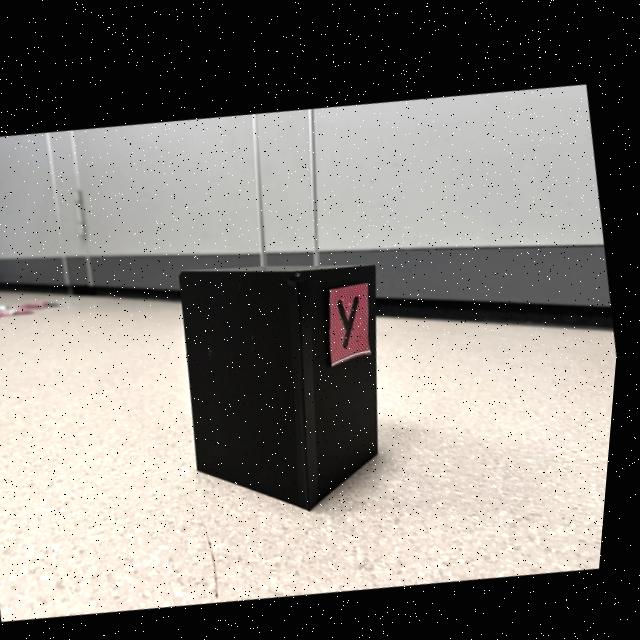Y: (342, 288, 363, 340)
